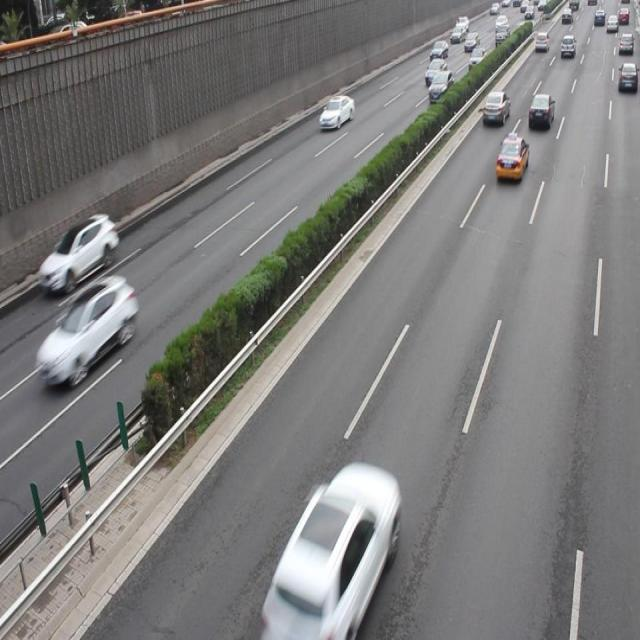car: (267, 461, 399, 640), (36, 274, 136, 386), (39, 212, 119, 293), (494, 134, 528, 182), (319, 93, 354, 132), (481, 89, 509, 127), (527, 92, 554, 130)
